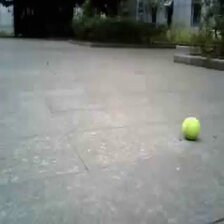tennis: (183, 118, 199, 139)
